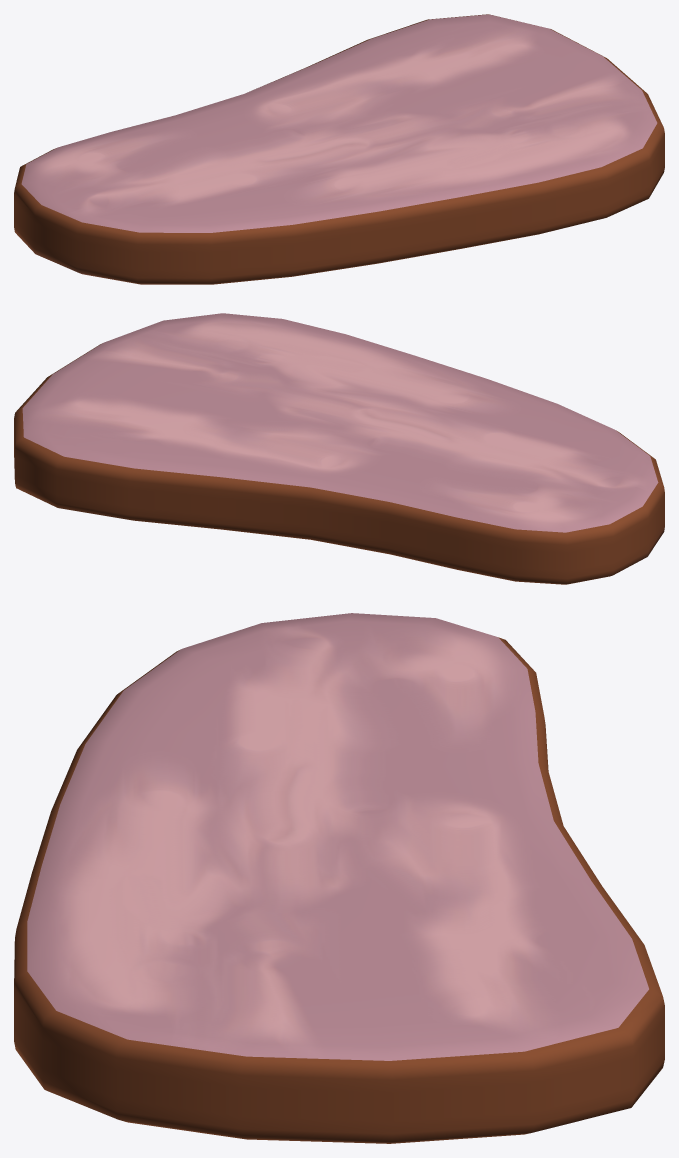
Rendered from Ham.fbx.
3 views of the same model, one above another, from view 1: azimuth 30°, elevation 25°; view 2: azimuth 150°, elevation 25°; view 3: azimuth 270°, elevation 25° (orthographic). The views are drawn at different scales.
Parts seen in each view (by area): view 1: Ham; view 2: Ham; view 3: Ham.
Boxes of the visible parts, x1,y1,x2,y2 form: Ham: (14,14,664,284); Ham: (14,313,664,584); Ham: (14,613,664,1143).
Bounding box in the file's own units: 136 × 13.47 × 82.13.
1 material, 1 textured.
